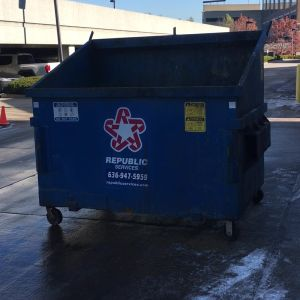Dumpster: (22, 17, 279, 243)
